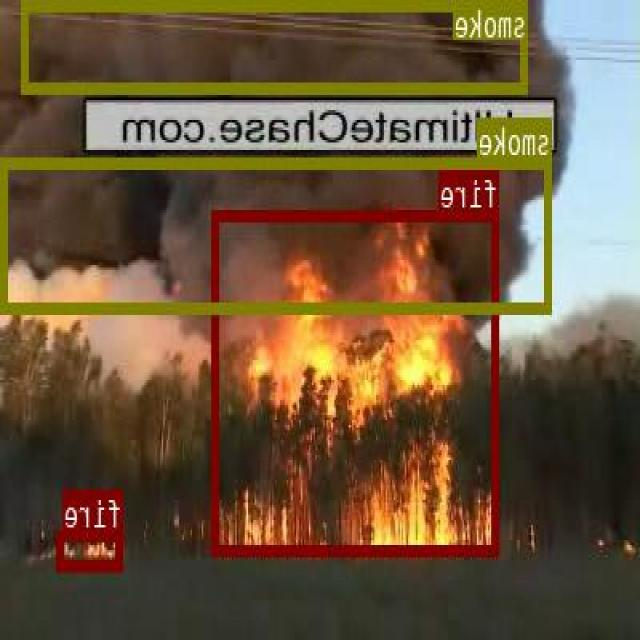fire: (214, 210, 501, 554), (58, 528, 124, 568)
smoke: (3, 156, 553, 310), (24, 0, 528, 90)
